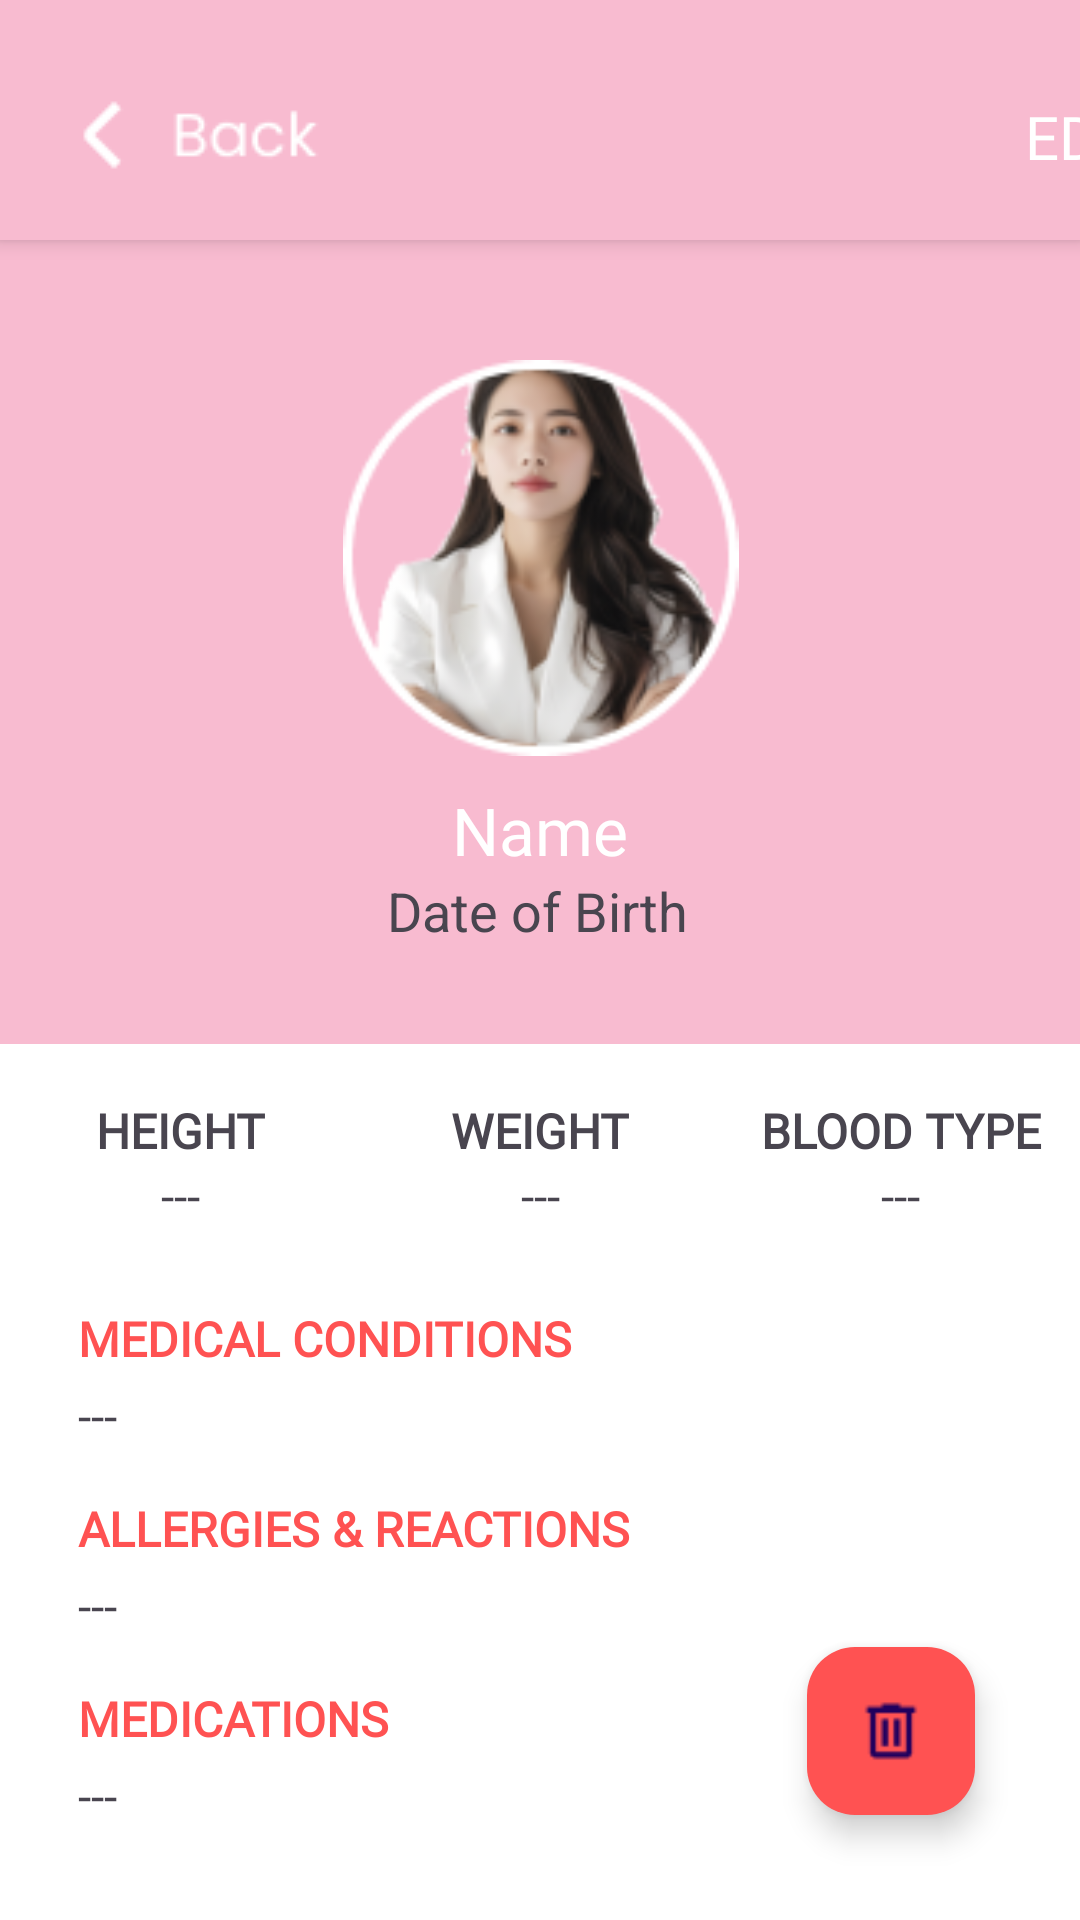

Screen size 1080 × 1920. Icon name, then its center in pixels as (x=x, y=y):
Delete: (x=891, y=1731)
